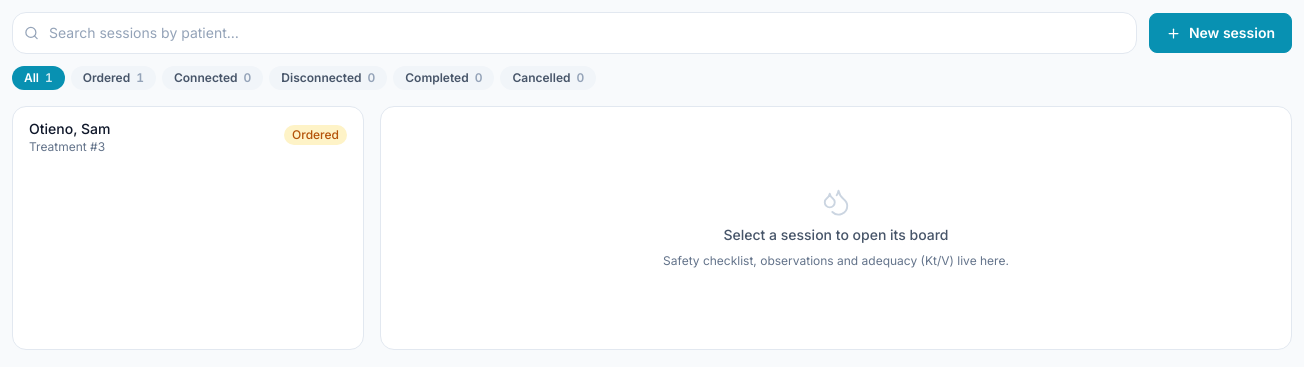
OrdersTab › filters the list client-side via status chips
Expected: the text "Otieno, Sam" is shown, 29,119 -> 110,139
Click the button "Completed 0". click: (444, 78)
box: 393,66 -> 494,90
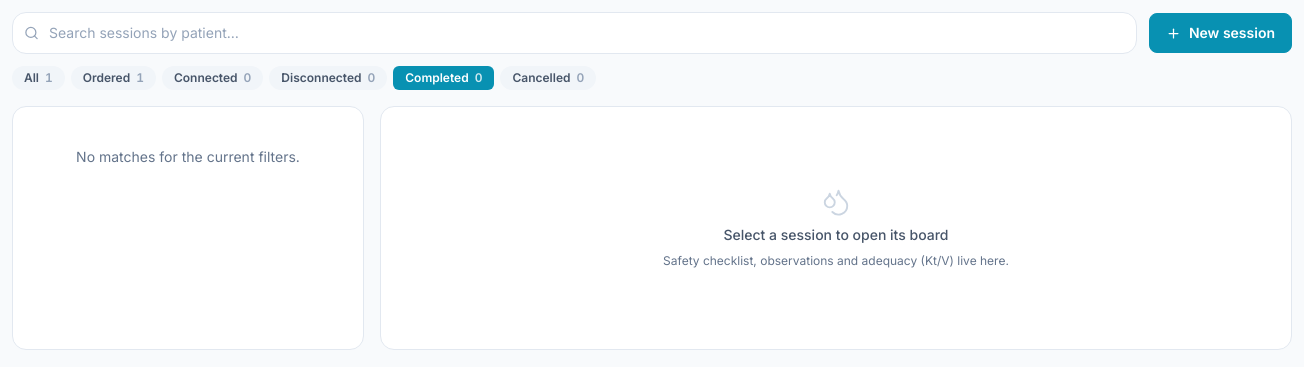
Expected: the button "Otieno, Sam" is gone
